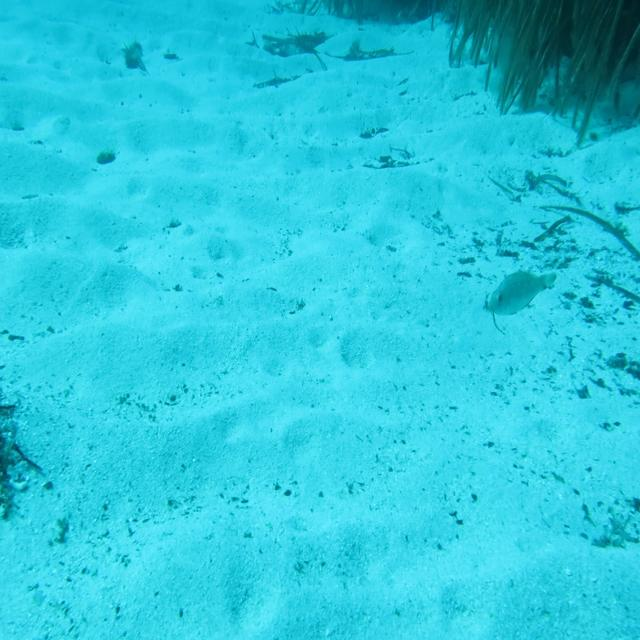AM: (486, 269, 559, 318)
vegetation: (450, 27, 640, 114), (305, 0, 640, 25), (578, 346, 640, 400), (482, 298, 506, 338)
